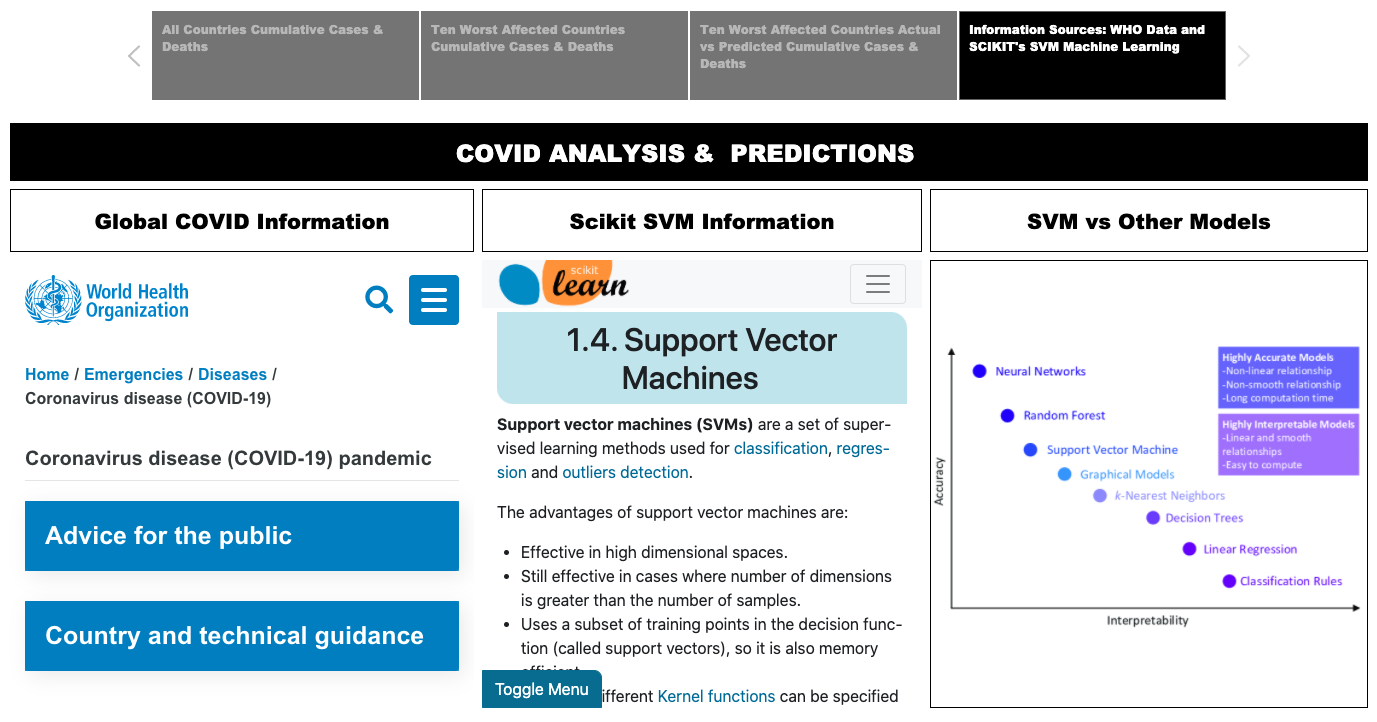

What the dashboard file says about the page in this screenshot:
{"tool":"tableau","page":{"name":"DB 0","canvas":[1000,1000],"units":"permille","ordinal":0},"visuals":[{"type":"worksheet","box":[0,0,1000,1000]},{"type":"worksheet","box":[4,8.3,991.9,114.4]},{"type":"worksheet","box":[4,122.7,343.1,116.1]},{"type":"worksheet","box":[347.1,122.7,324.4,116.1]},{"type":"worksheet","box":[671.5,122.7,324.4,116.1]},{"type":"worksheet","param":"https://www.who.int/emergencies/diseases/novel-coronavirus-2019","box":[4,238.9,343.1,752.8]},{"type":"worksheet","param":"https://scikit-learn.org/stable/modules/svm.html","box":[347.1,238.9,324.4,752.8]},{"type":"worksheet","param":"Image/The-trade-off-between-interpretability-and-accuracy-of-some-relevant-ML-mo","box":[671.5,238.9,324.4,752.8]}]}

Visuals, with their boxes on the dashboard's canvas, which has no fixed pixel size, in thousandths of its width and height (x1, y1, x2, y2). These are canvas units, not pixel positions in the 1377x722 screenshot, which may show the page scaled, cropped or inside an application window:
worksheet: 0, 0, 1000, 1000
worksheet: 4, 8, 996, 123
worksheet: 4, 123, 347, 239
worksheet: 347, 123, 672, 239
worksheet: 672, 123, 996, 239
worksheet: 4, 239, 347, 992
worksheet: 347, 239, 672, 992
worksheet: 672, 239, 996, 992
